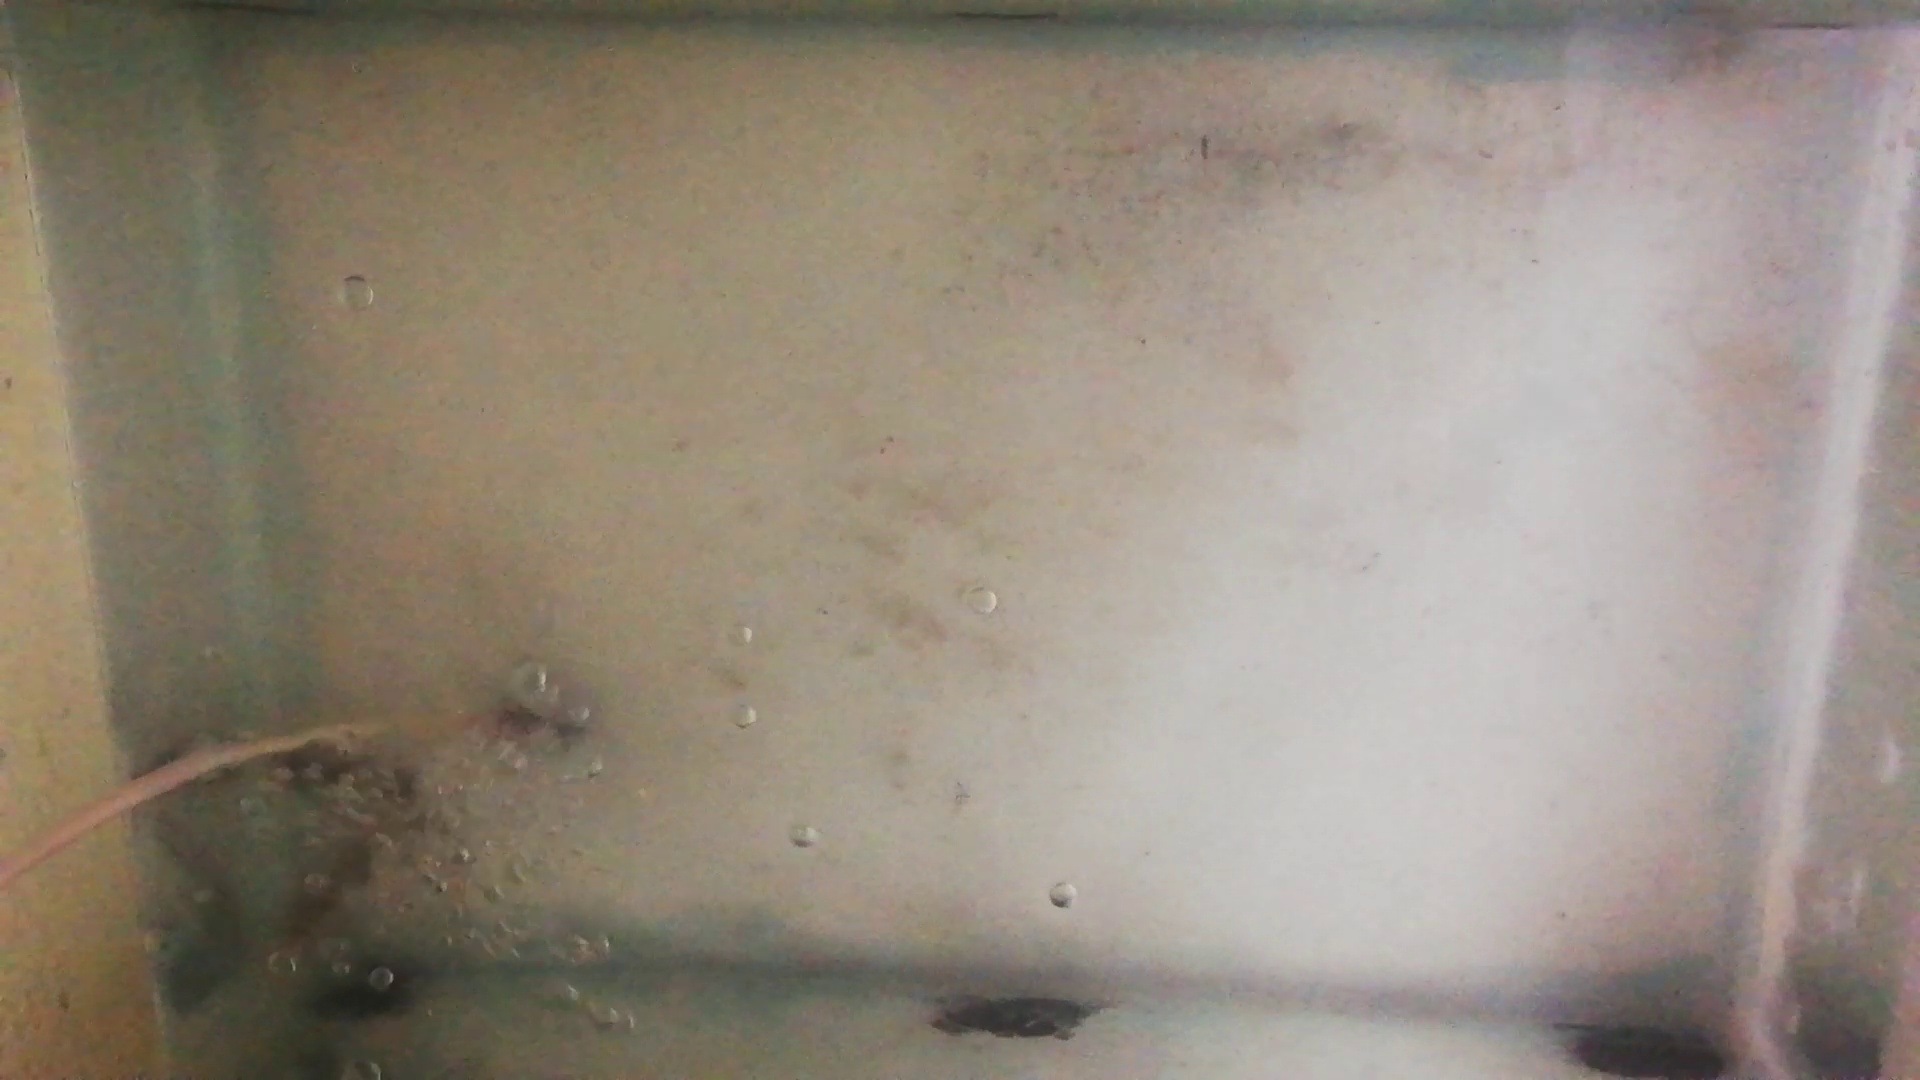fish: (287, 829, 378, 951), (268, 746, 422, 804)
